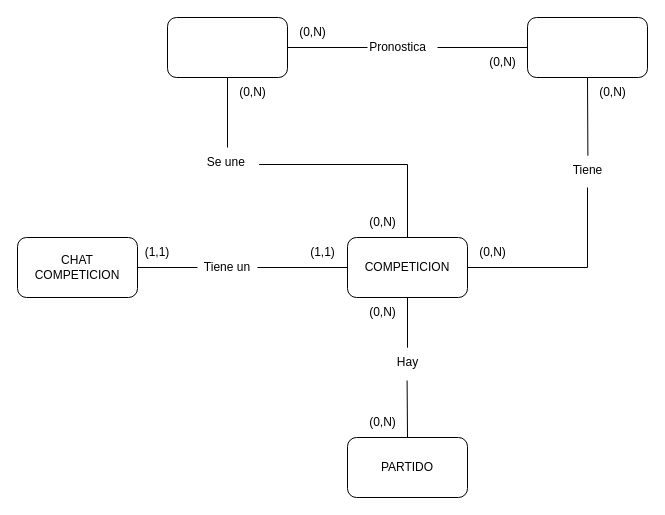
This 665x515 diagram has some shape labels left out. The centre of each missing label's shape, as x and y in pixels:
"PRONOSTICO" belongs at point (587, 47).
"USUARIO" belongs at point (227, 47).
